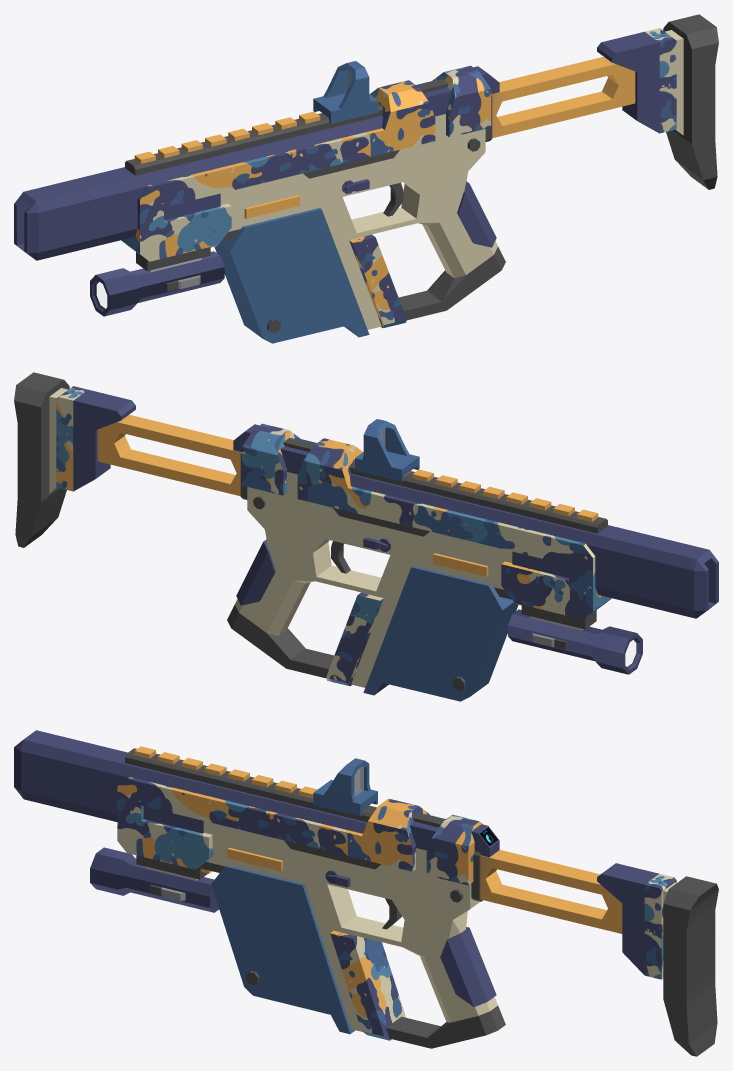
The model's file is SM_SMG01A.fbx.
3 renders of one model, top to bottom at view 1: azimuth 30°, elevation 25°; view 2: azimuth 150°, elevation 25°; view 3: azimuth 330°, elevation 25°, orthographic.
Visible parts, largest first — view 1: SM_SMG01A, SM_Flashlight01, SM_ReflexA; view 2: SM_SMG01A, SM_Flashlight01, SM_ReflexA; view 3: SM_SMG01A, SM_Flashlight01, SM_ReflexA.
Boxes of the visible parts, x1,y1,x2,y2 form: SM_SMG01A: [14, 14, 718, 343]; SM_Flashlight01: [90, 247, 224, 316]; SM_ReflexA: [313, 61, 377, 123]; SM_SMG01A: [14, 372, 718, 701]; SM_Flashlight01: [508, 605, 642, 674]; SM_ReflexA: [355, 419, 419, 481]; SM_SMG01A: [14, 730, 718, 1056]; SM_Flashlight01: [90, 847, 218, 912]; SM_ReflexA: [313, 758, 377, 816].
Bounding box in the file's own units: 58.1 × 21.29 × 4.2.
Materials: 7 (2 with a texture image).
